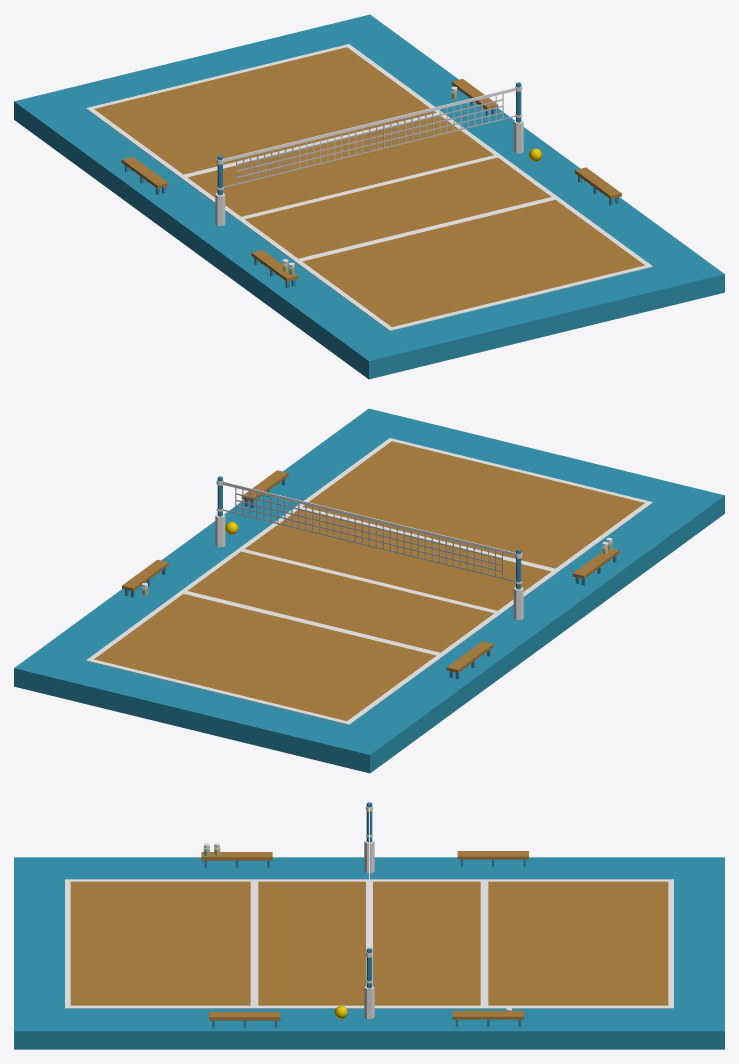
File: volleyball_court.glb
3 renders of one model, top to bottom at view 1: azimuth 30°, elevation 25°; view 2: azimuth 150°, elevation 25°; view 3: azimuth 270°, elevation 25°, orthographic.
Parts seen in each view (by area): view 1: Plane088, Box191, Plane089, Cylinder158, Box198, Box199, Box200; view 2: Plane088, Box191, Plane089, Cylinder158, Box199, Box197, Box200, Box198; view 3: Plane088, Box191, Cylinder158, Box197, Box198, Box199, Box200.
Boxes of the visible parts, x1,y1,x2,y2 form: Plane088: [86, 44, 652, 330]; Box191: [14, 14, 724, 379]; Plane089: [223, 87, 516, 187]; Cylinder158: [215, 82, 523, 225]; Box198: [575, 167, 621, 205]; Box199: [121, 157, 168, 194]; Box200: [251, 250, 298, 288]; Plane088: [86, 438, 652, 724]; Box191: [14, 408, 724, 773]; Plane089: [222, 481, 515, 581]; Cylinder158: [215, 476, 523, 619]; Box199: [446, 641, 493, 679]; Box197: [122, 559, 168, 597]; Box200: [572, 548, 619, 585]; Box198: [241, 470, 288, 508]; Plane088: [65, 879, 673, 1008]; Box191: [14, 857, 724, 1049]; Cylinder158: [364, 802, 374, 1018]; Box197: [452, 1011, 523, 1026]; Box198: [209, 1012, 280, 1027]; Box199: [457, 851, 528, 866]; Box200: [201, 852, 272, 867].
Bounding box in the file's own units: 12.18 × 2.82 × 21.02.
